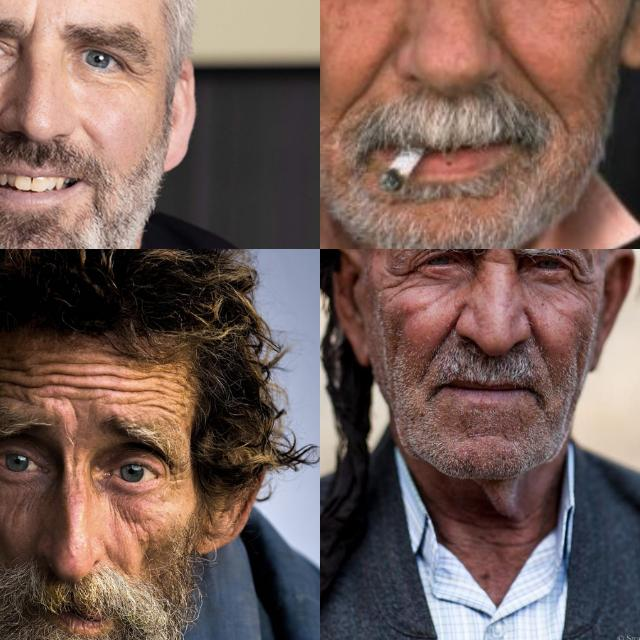crows_feet: (382, 260, 416, 296), (568, 263, 596, 305), (127, 63, 151, 91)
forehead: (100, 366, 148, 406), (44, 363, 94, 401), (154, 374, 190, 414), (0, 362, 34, 401)
frown_line: (25, 4, 45, 44), (66, 396, 84, 430)
gummy_smile: (498, 42, 558, 100), (338, 42, 389, 108), (428, 314, 458, 366), (520, 321, 554, 365), (80, 122, 102, 150)
masseter: (4, 490, 34, 528), (112, 503, 148, 533)
